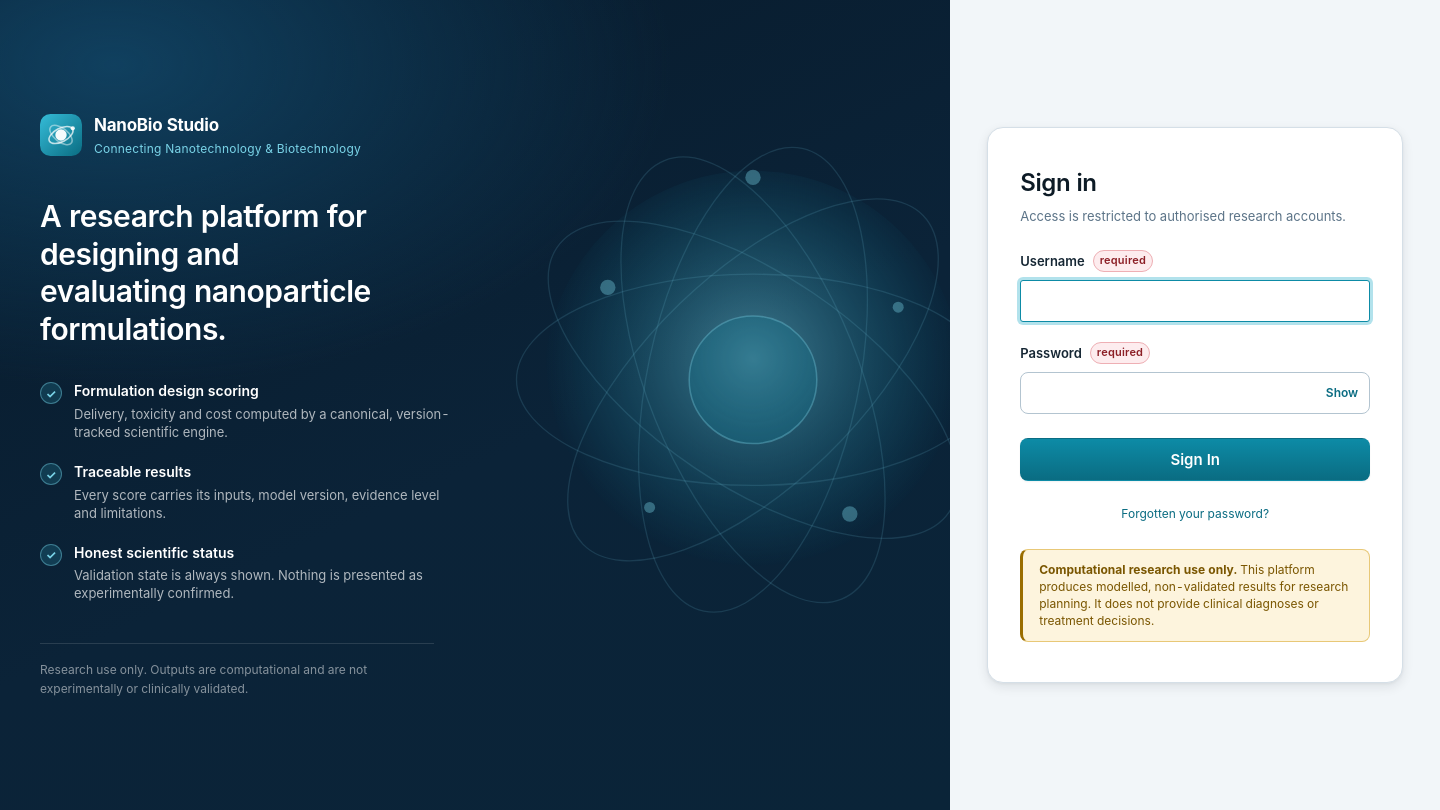
it: login › shows a generic message on bad credentials and stays on login
Expected: the heading "Sign in" is shown, [1020,168,1097,196]
Type "admin" into the field labelled "Username". click: point(1195, 301)
box: [1020,280,1370,322]
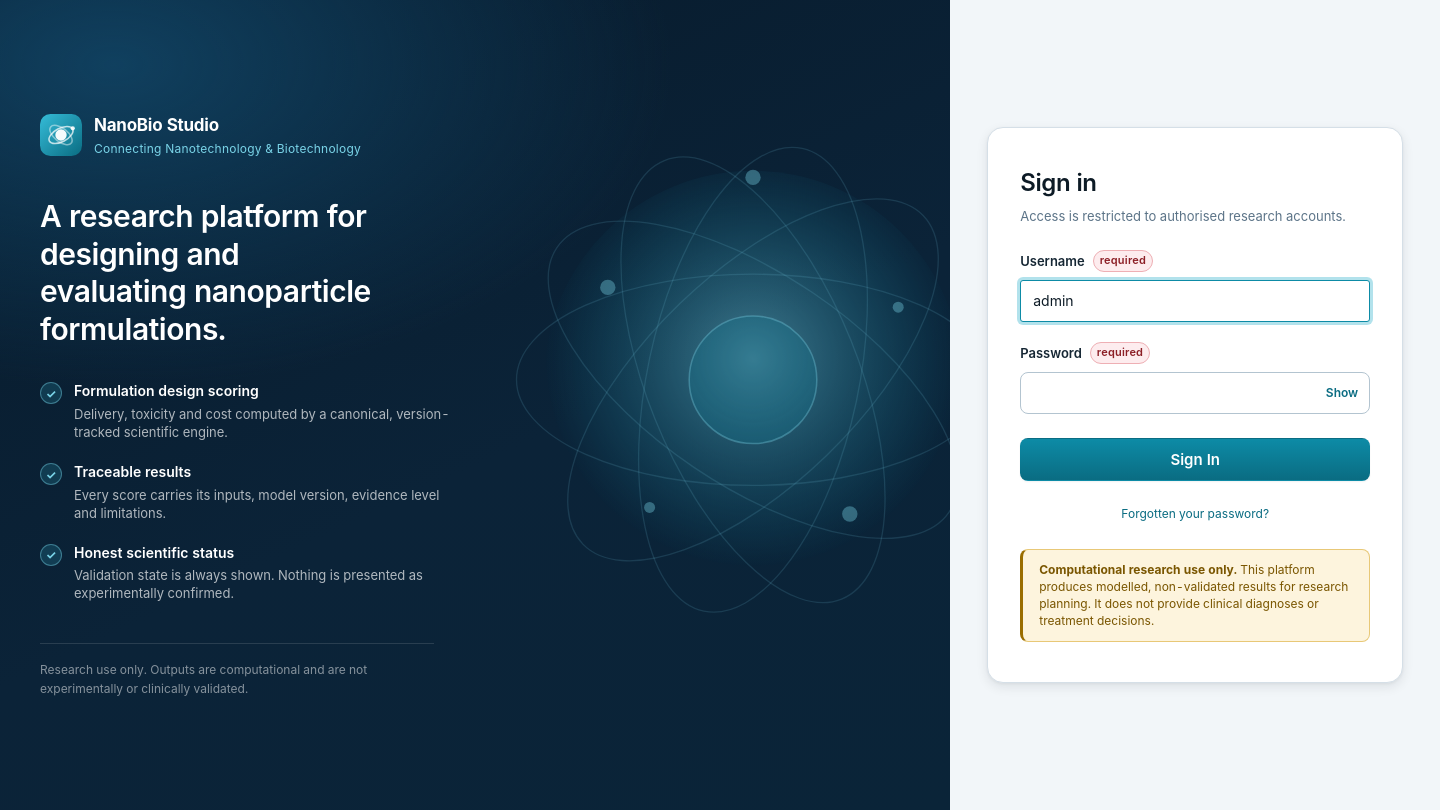
Type "wrong" into the password field labelled "Password". click: point(1195, 393)
box: [1020,372,1370,414]
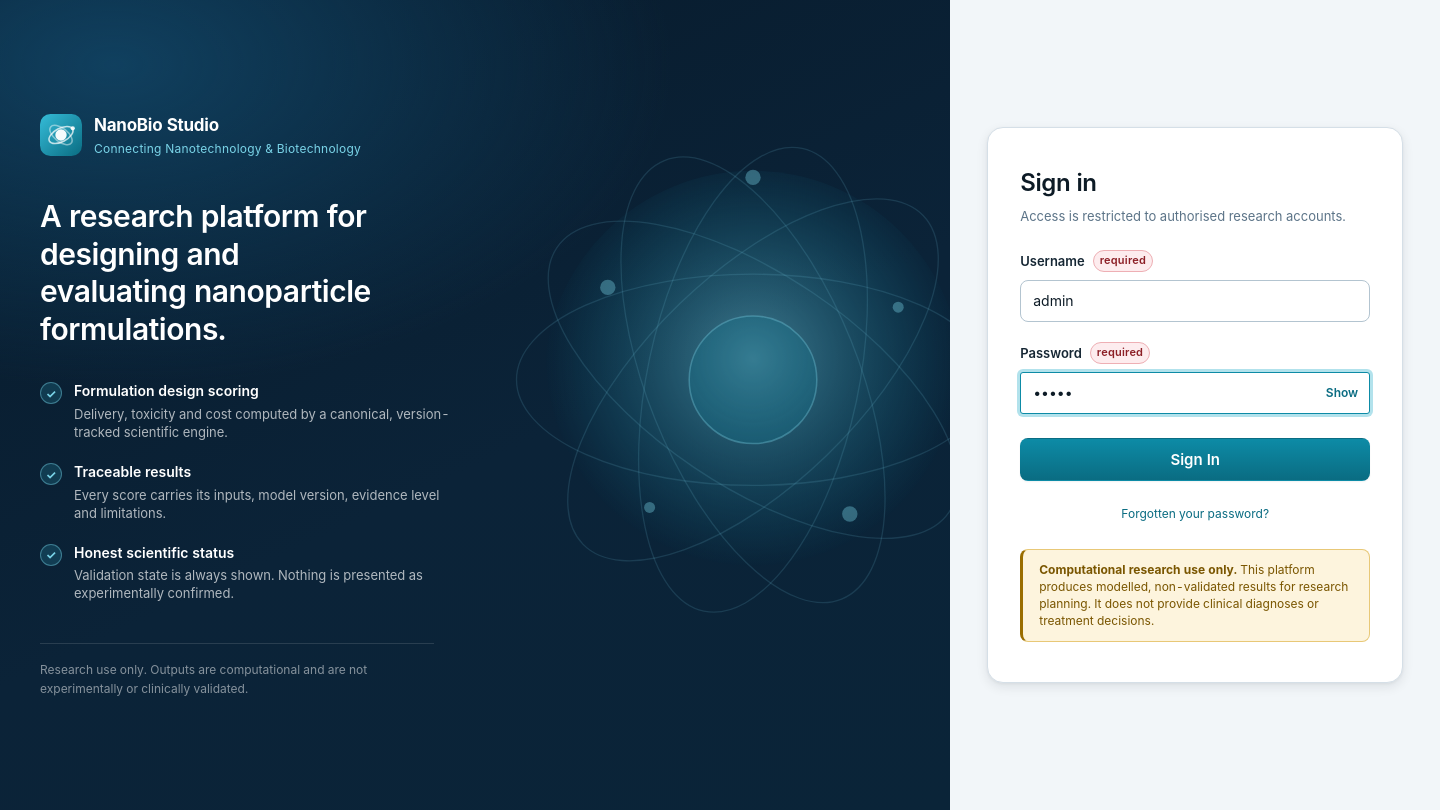
Click the button "Sign In". click: point(1195, 460)
box: [1020,438,1370,481]
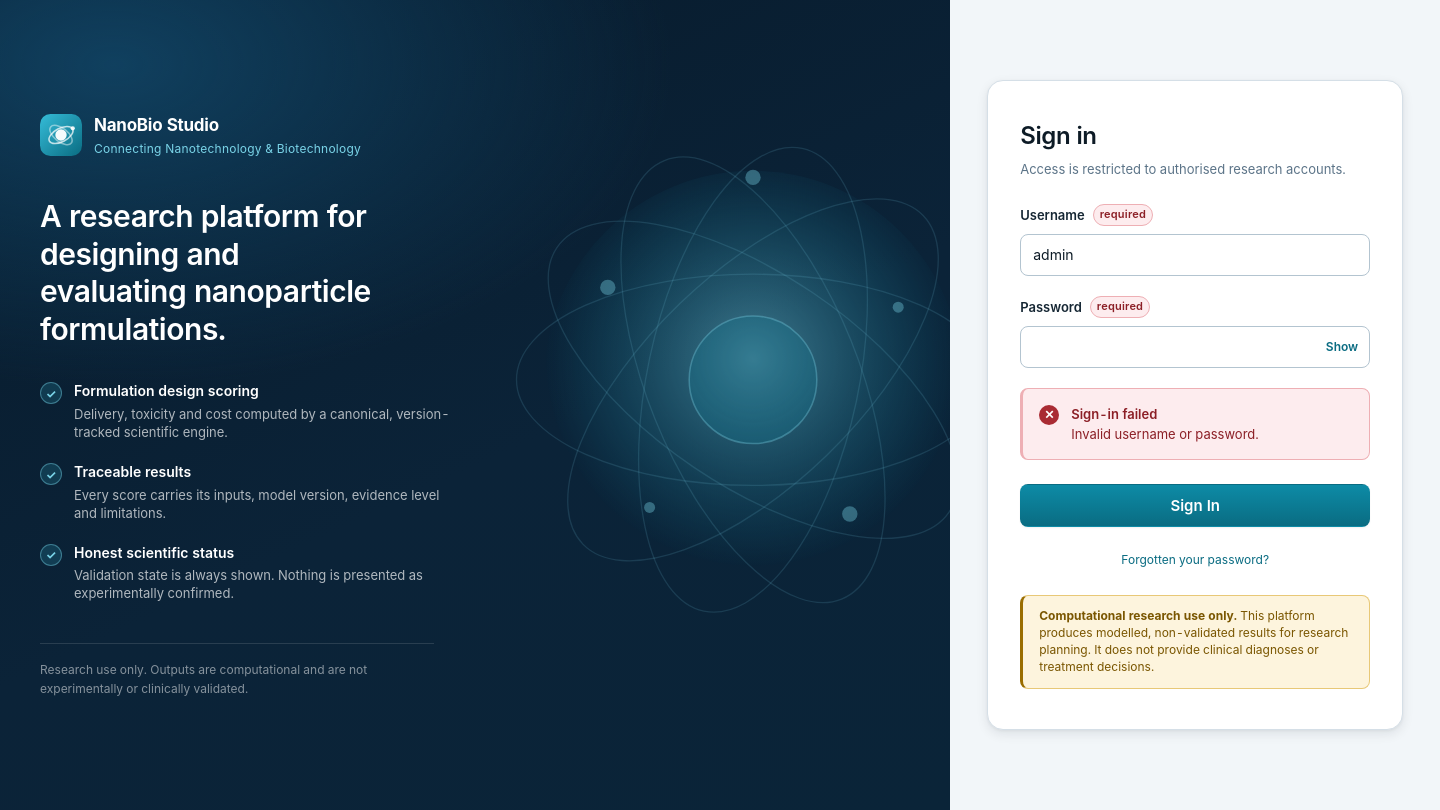
Expected: the heading "Sign in" is shown, [1020,121,1097,150]
Expected: the element with test id "auth-error" shows "Invalid username or password", [1071,426,1259,442]
